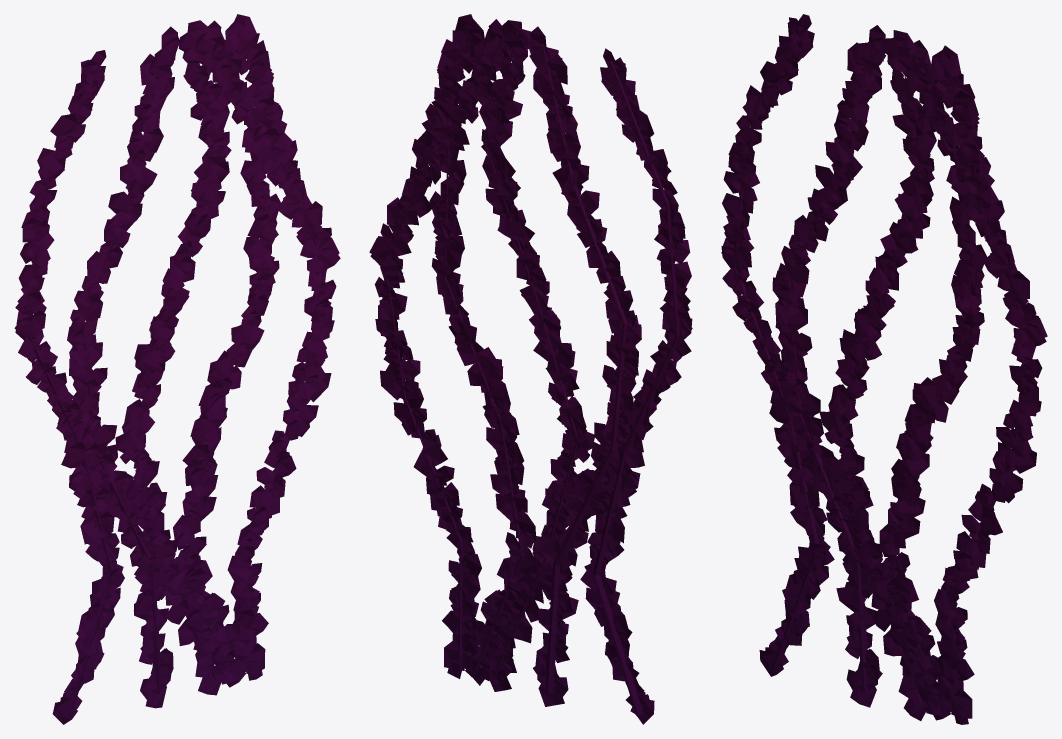
The model's file is vine_wall.glb.
3 views of the same model, side by side, from view 1: azimuth 30°, elevation 25°; view 2: azimuth 150°, elevation 25°; view 3: azimuth 330°, elevation 25° (orthographic).
Visible parts, largest first — view 1: vine_wall; view 2: vine_wall; view 3: vine_wall.
Part boxes in pixels (x1,y1,x2,y2): vine_wall: [14, 14, 340, 724]; vine_wall: [369, 14, 692, 724]; vine_wall: [721, 14, 1047, 724].
Size of the model in its own units: 3 by 6 by 0.095.
